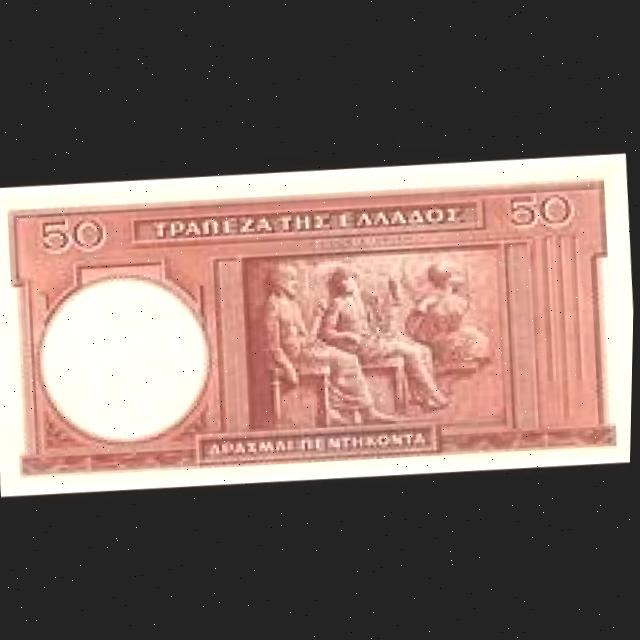banknote: (0, 142, 638, 501), (31, 211, 122, 266), (506, 187, 591, 236)
